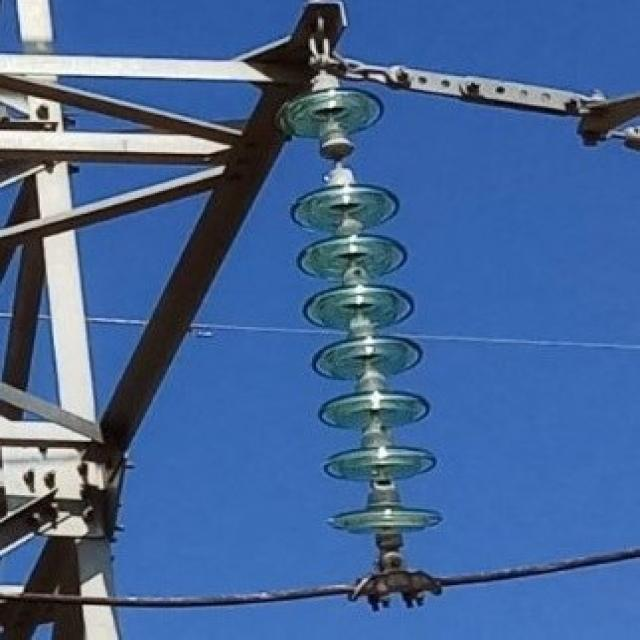杆塔: (7, 0, 640, 640)
正常绝缘子: (264, 70, 442, 588)
绝缘子破损: (317, 135, 356, 180)
